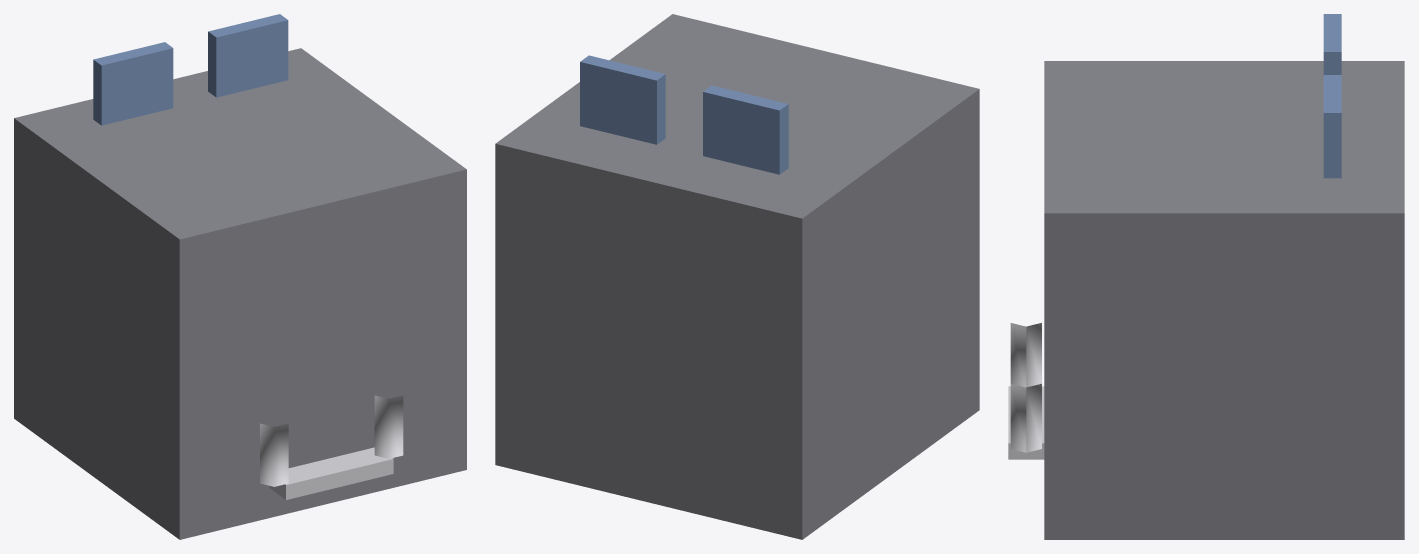
File: espresso_machine.glb
3 renders of one model, left to right at view 1: azimuth 30°, elevation 25°; view 2: azimuth 150°, elevation 25°; view 3: azimuth 270°, elevation 25°, orthographic. The views are drawn at different scales.
Parts seen in each view (by area): view 1: body, displays, spouts, drip_tray; view 2: body, displays; view 3: body, spouts, displays, drip_tray.
Boxes of the visible parts, bbox=[...] form: body: bbox=[14, 48, 466, 539]; displays: bbox=[93, 14, 288, 125]; spouts: bbox=[260, 395, 403, 486]; drip_tray: bbox=[269, 447, 393, 499]; body: bbox=[495, 14, 979, 539]; displays: bbox=[580, 55, 788, 174]; body: bbox=[1044, 61, 1404, 539]; spouts: bbox=[1010, 323, 1041, 452]; displays: bbox=[1323, 14, 1341, 178]; drip_tray: bbox=[1008, 386, 1044, 459].
Size of the model in its own units: 0.4 by 0.49 by 0.44.
